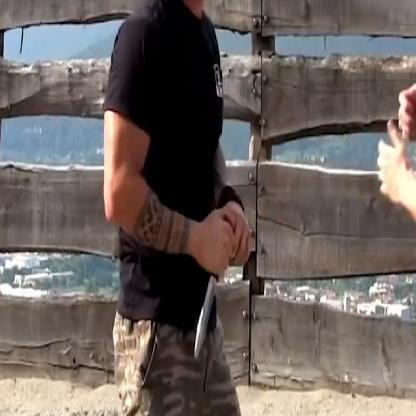knife: (186, 217, 231, 371)
